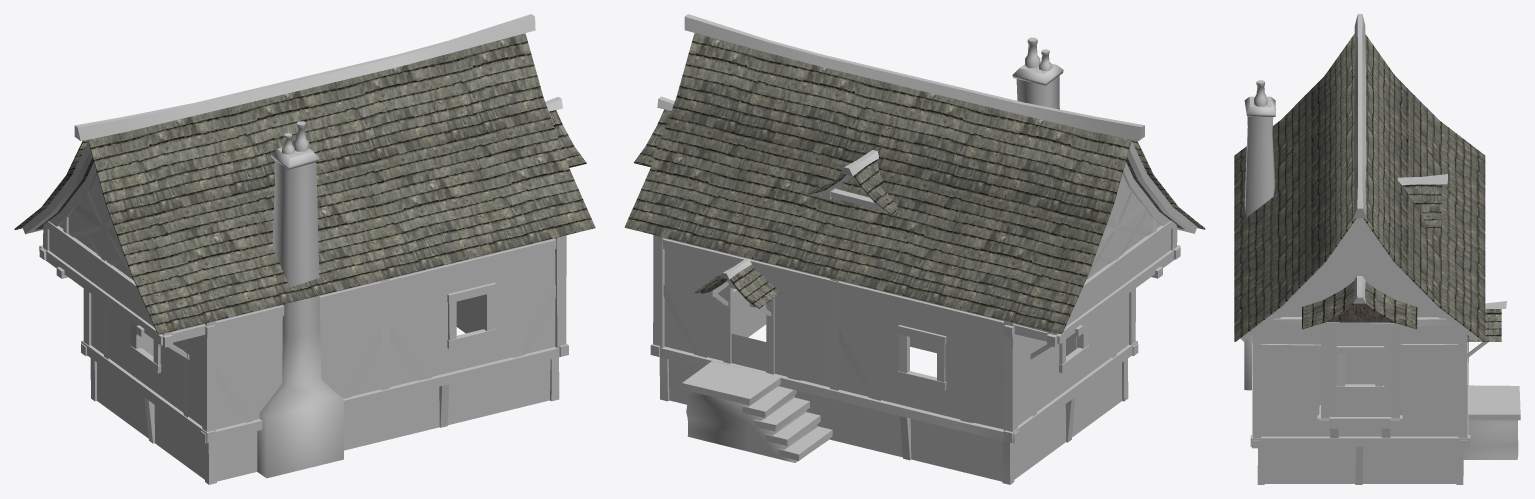
Rendered from mw_type_1_cottage_06_LOD1.FBX.
3 renders of one model, left to right at view 1: azimuth 30°, elevation 25°; view 2: azimuth 150°, elevation 25°; view 3: azimuth 270°, elevation 25°, orthographic. The views are drawn at different scales.
Parts seen in each view (by area): view 1: mw_type_1_cottage_06_roof, mw_type_1_cottage_06_stone, mw_type_1_cottage_06_wood; view 2: mw_type_1_cottage_06_roof, mw_type_1_cottage_06_stone, mw_type_1_cottage_06_wood; view 3: mw_type_1_cottage_06_roof, mw_type_1_cottage_06_stone, mw_type_1_cottage_06_wood.
Part boxes in pixels (bbox=[...]): mw_type_1_cottage_06_roof: bbox=[14, 33, 595, 334]; mw_type_1_cottage_06_stone: bbox=[49, 121, 555, 481]; mw_type_1_cottage_06_wood: bbox=[22, 14, 568, 484]; mw_type_1_cottage_06_roof: bbox=[624, 33, 1205, 334]; mw_type_1_cottage_06_stone: bbox=[664, 37, 1170, 481]; mw_type_1_cottage_06_wood: bbox=[650, 14, 1197, 484]; mw_type_1_cottage_06_roof: bbox=[1234, 33, 1501, 341]; mw_type_1_cottage_06_stone: bbox=[1244, 80, 1520, 483]; mw_type_1_cottage_06_wood: bbox=[1240, 14, 1506, 484].
Size of what is drawn, in the model's own units: 1614 by 1076 by 949.
